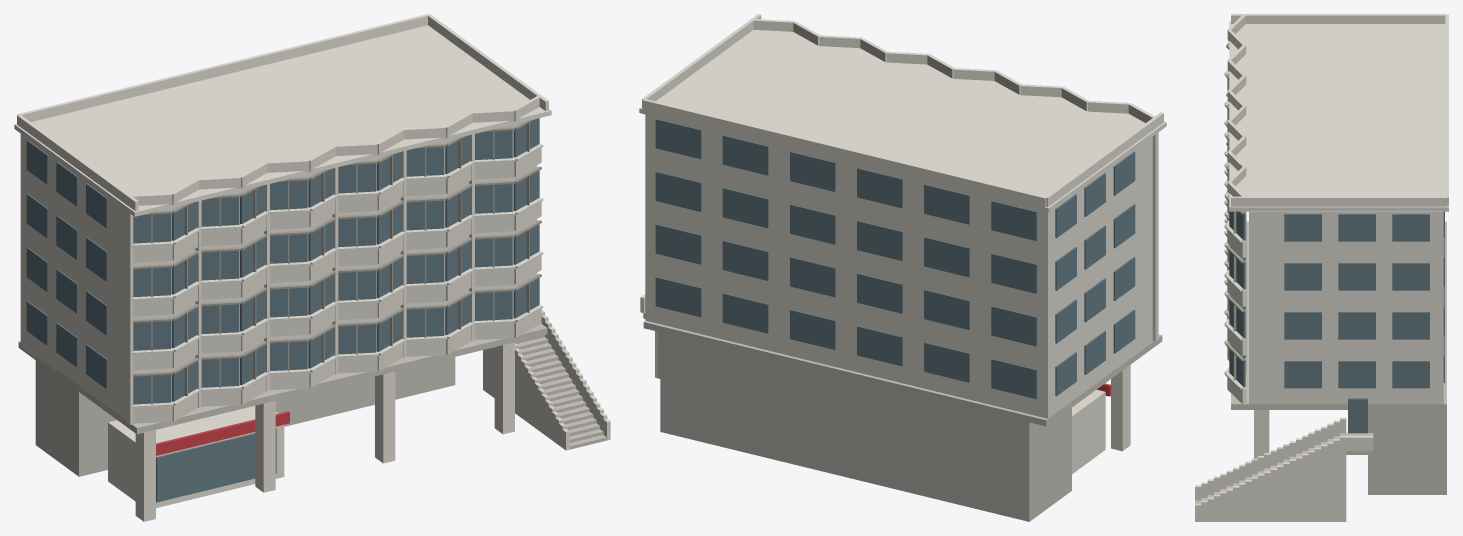
3 renders of one model, left to right at view 1: azimuth 30°, elevation 25°; view 2: azimuth 150°, elevation 25°; view 3: azimuth 270°, elevation 25°, orthographic. The views are drawn at different scales.
Parts seen in each view (by area): view 1: Zigzag facade building (approximate); view 2: Zigzag facade building (approximate); view 3: Zigzag facade building (approximate).
Part boxes in pixels (left/top/right/bottom): Zigzag facade building (approximate): left=14, top=14, right=610, bottom=521; Zigzag facade building (approximate): left=639, top=14, right=1166, bottom=521; Zigzag facade building (approximate): left=1195, top=14, right=1448, bottom=521.
Size of the model in its own units: 26.76 by 18.7 by 14.1.
